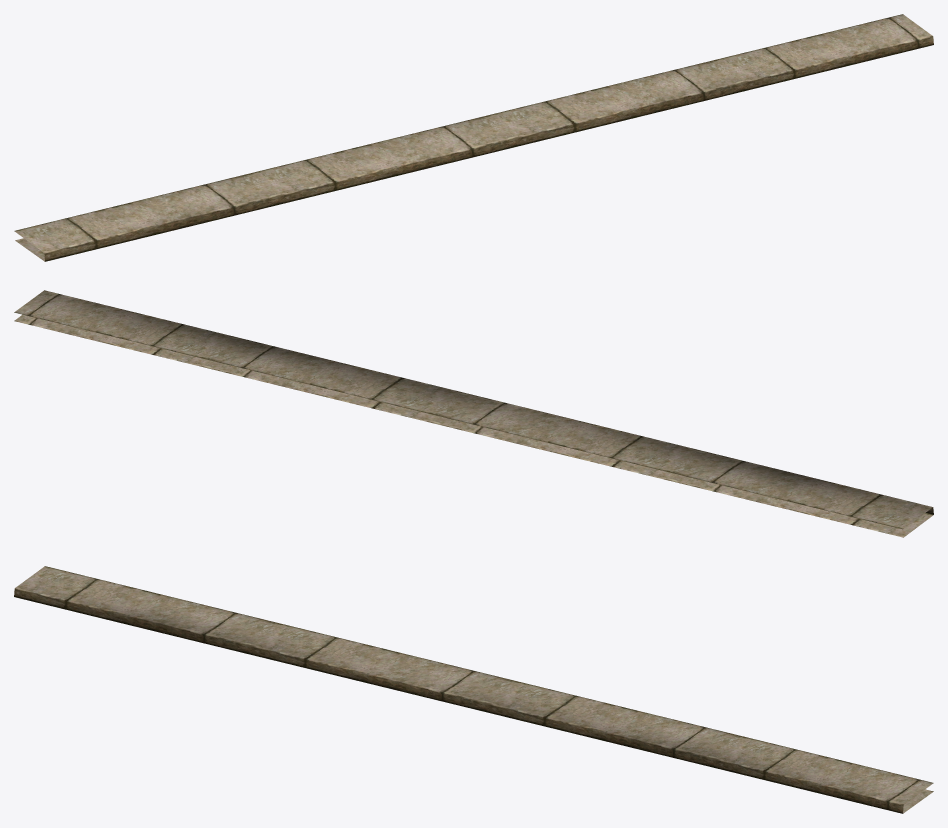
The model's file is EKH_THRONE_PS_TH_STEP_TRIM_02983.fbx.
3 views of the same model, one above another, from view 1: azimuth 30°, elevation 25°; view 2: azimuth 150°, elevation 25°; view 3: azimuth 330°, elevation 25° (orthographic).
Parts seen in each view (by area): view 1: EKH_THRONE_PS_TH_STEP_TRIM_02983; view 2: EKH_THRONE_PS_TH_STEP_TRIM_02983; view 3: EKH_THRONE_PS_TH_STEP_TRIM_02983.
Part boxes in pixels (<box>): EKH_THRONE_PS_TH_STEP_TRIM_02983: <box>14,14,933,261</box>; EKH_THRONE_PS_TH_STEP_TRIM_02983: <box>14,290,933,537</box>; EKH_THRONE_PS_TH_STEP_TRIM_02983: <box>14,566,933,813</box>.
Size of the model in its own units: 216010 by 2068 by 13078.
1 material, 1 textured.
